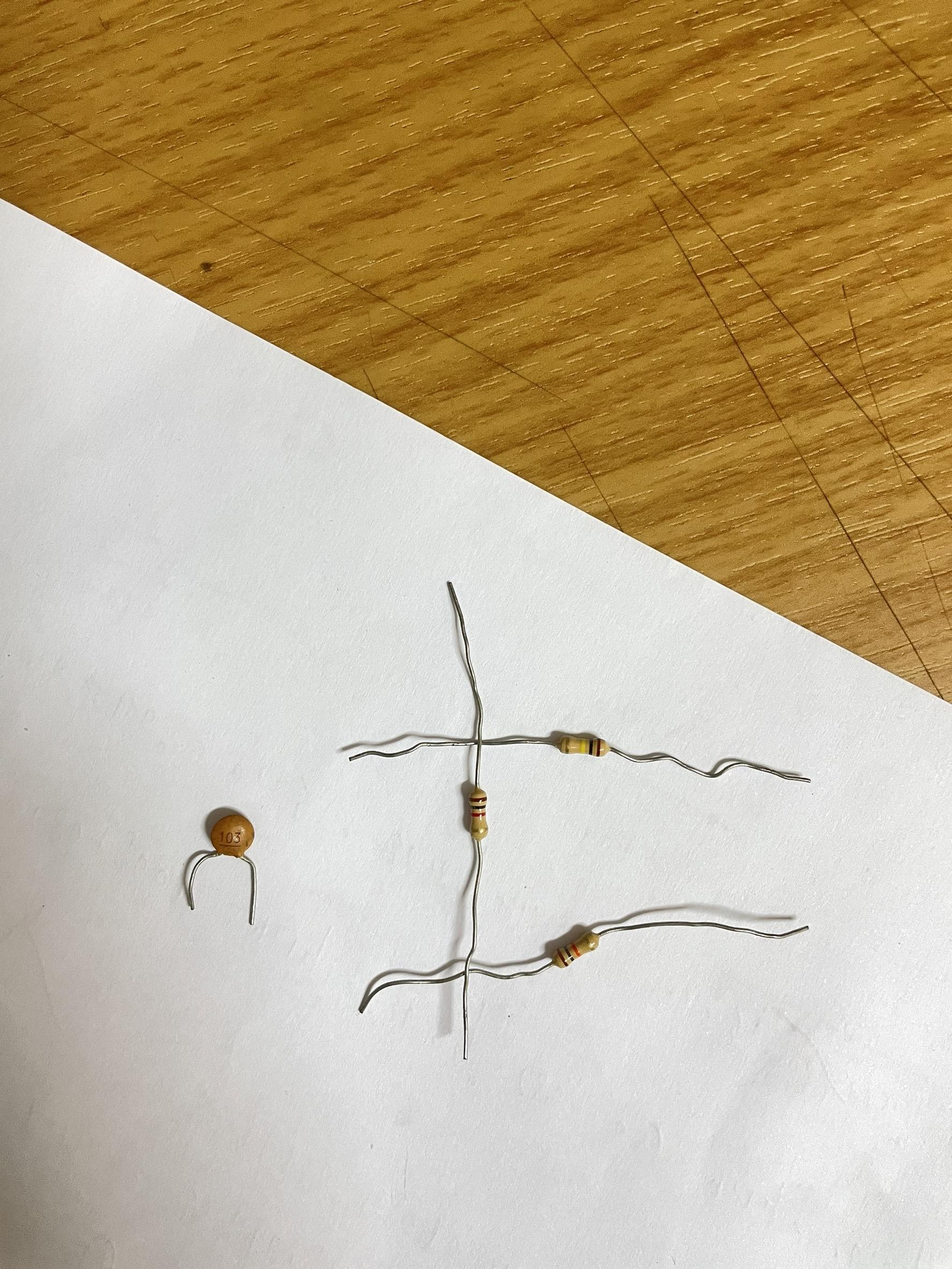resistor: (550, 930, 600, 968), (554, 731, 608, 756), (468, 788, 489, 841)
